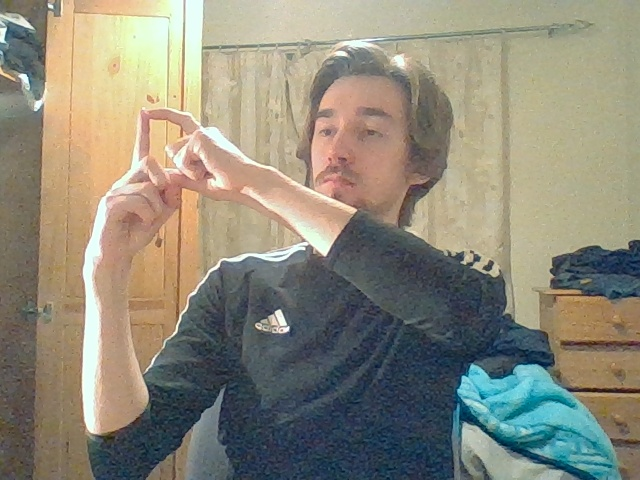daughter: (102, 107, 234, 248)
